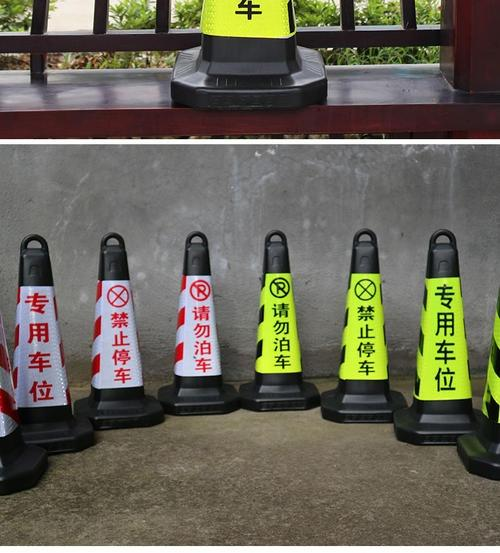cone_barrel: (396, 233, 485, 446), (6, 238, 80, 452), (76, 237, 156, 431), (322, 230, 401, 421), (184, 0, 310, 113), (157, 228, 231, 415), (242, 231, 312, 406), (469, 285, 499, 459), (445, 0, 493, 96)
